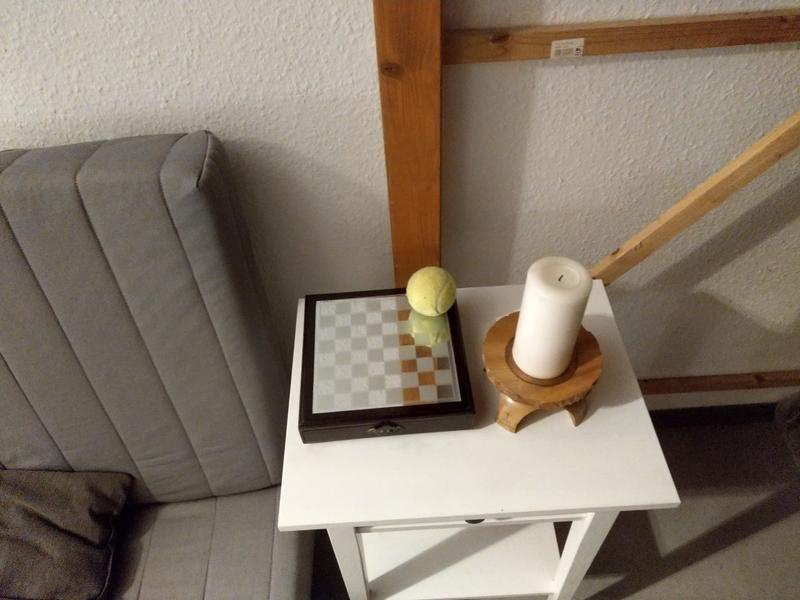Tennisball: (404, 264, 460, 320)
